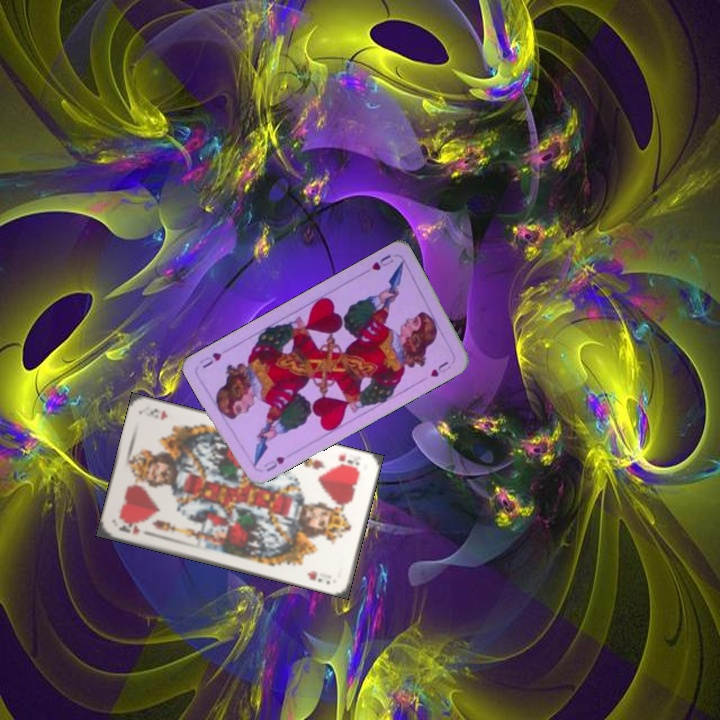HK: (332, 450, 363, 473), (114, 518, 142, 537)
HU: (360, 250, 396, 277), (259, 452, 287, 474)
